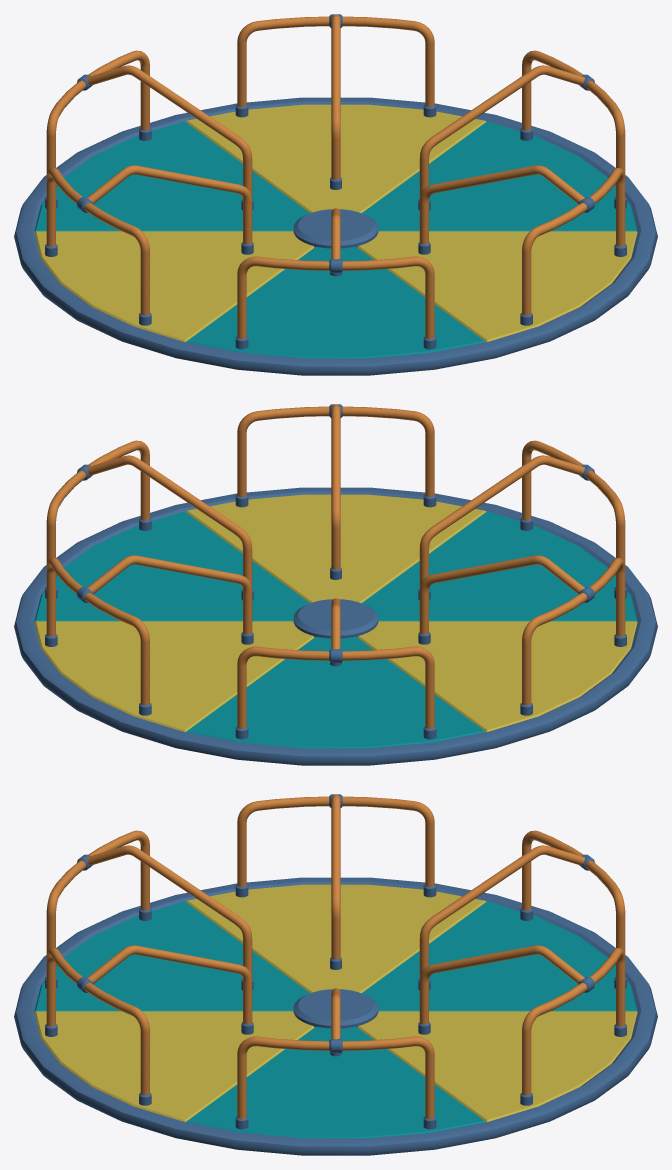
The model's file is Carousel.fbx.
3 renders of one model, top to bottom at view 1: azimuth 30°, elevation 25°; view 2: azimuth 150°, elevation 25°; view 3: azimuth 270°, elevation 25°, orthographic.
Visible parts, largest first — view 1: top; view 2: top; view 3: top.
Boxes of the visible parts, x1=… form: top: x1=14, y1=14, x2=657, y2=375; top: x1=14, y1=404, x2=657, y2=765; top: x1=14, y1=794, x2=657, y2=1155.
Size of the model in its own units: 358 by 143 by 360.
